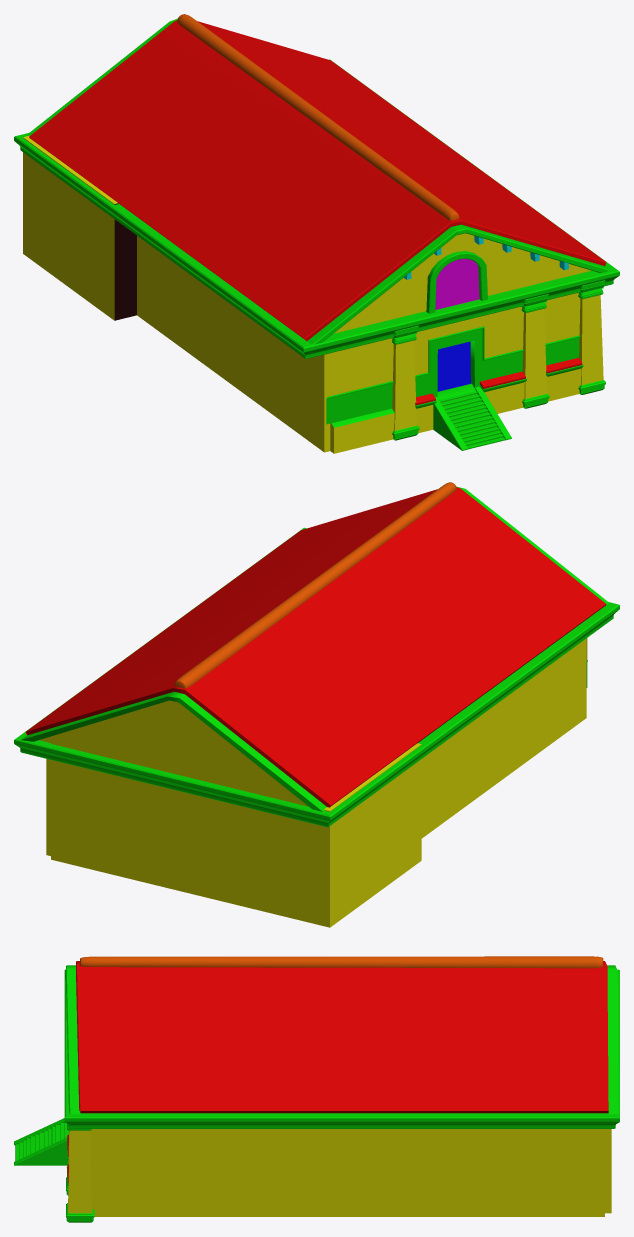
File: redBuilding Unity.fbx
The picture shows the model from 3 angles, top to bottom: view 1: azimuth 30°, elevation 25°; view 2: azimuth 150°, elevation 25°; view 3: azimuth 270°, elevation 25°; orthographic projection. The views are drawn at different scales.
Parts seen in each view (by area): view 1: redBuildingUnity; view 2: redBuildingUnity; view 3: redBuildingUnity.
Part boxes in pixels (left/top/right/bottom): redBuildingUnity: left=14, top=14, right=619, bottom=453; redBuildingUnity: left=14, top=482, right=619, bottom=927; redBuildingUnity: left=14, top=956, right=619, bottom=1222.
Size of the model in its own units: 22.71 by 14.23 by 39.28.
